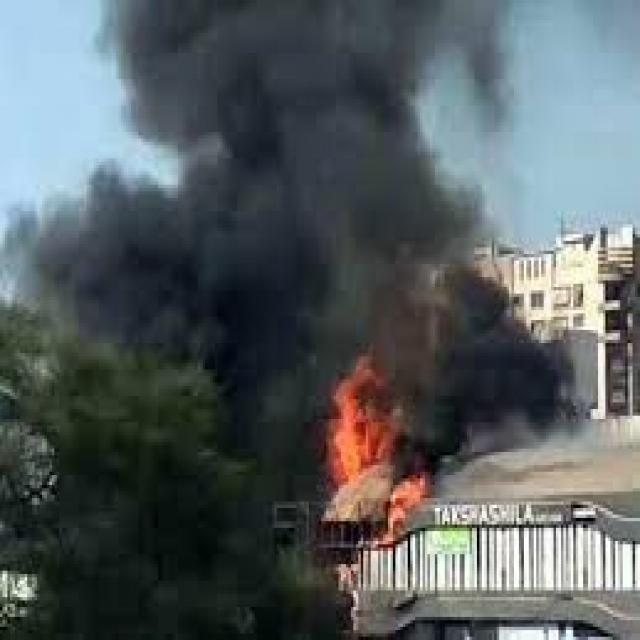fire: (319, 356, 427, 544)
smoke: (2, 3, 529, 353), (425, 267, 586, 468)
